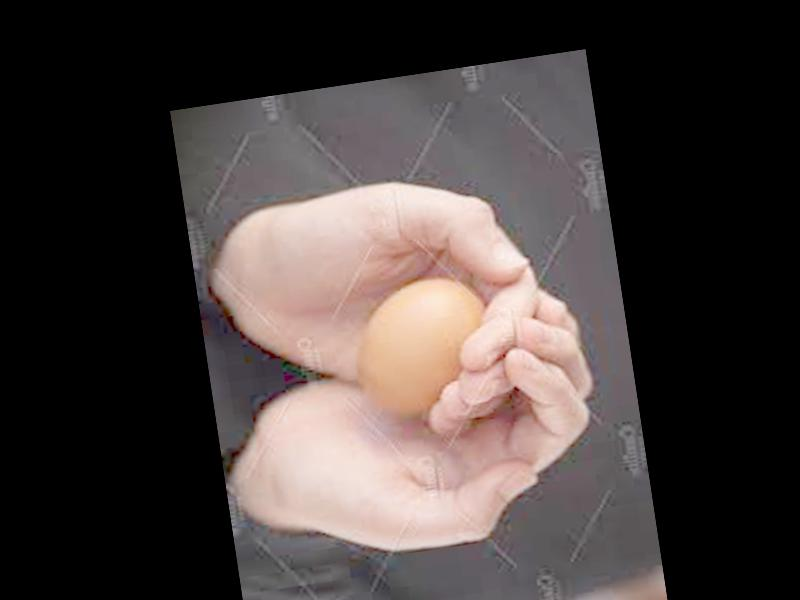Eggs: (345, 271, 495, 428)
